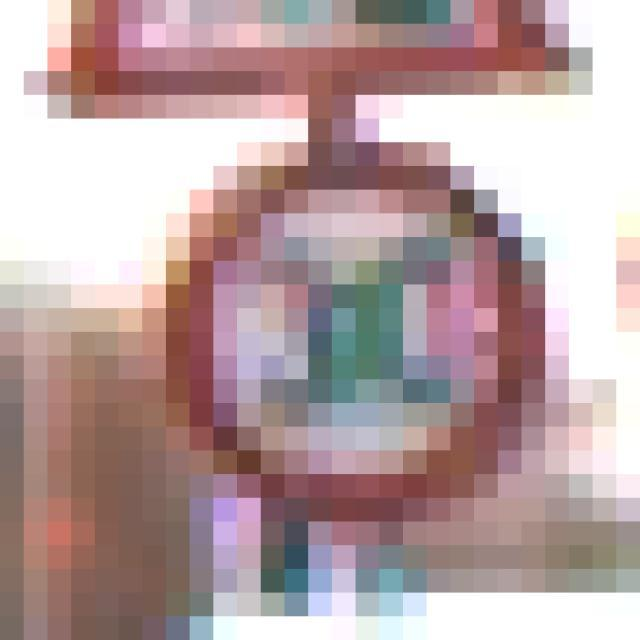Speed Limit -30-: (130, 107, 510, 510)
